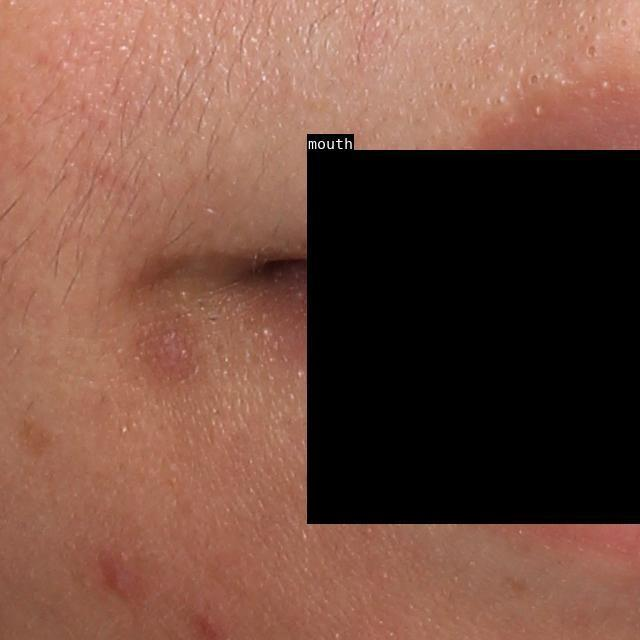comedo: (581, 42, 600, 61), (525, 71, 541, 88), (618, 15, 630, 30)
papule: (138, 316, 203, 384), (105, 565, 133, 602)
